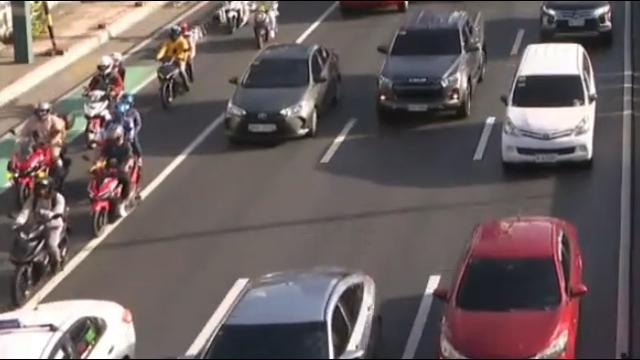car: (432, 218, 586, 360), (190, 266, 380, 360), (499, 42, 597, 163), (376, 8, 482, 118), (227, 46, 341, 141), (0, 302, 136, 360)
motorcycle: (87, 103, 144, 237), (10, 179, 71, 304), (7, 100, 71, 214), (85, 50, 135, 150), (154, 21, 193, 108), (249, 1, 280, 49)
